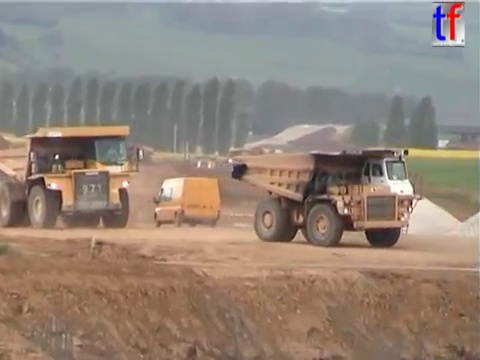truck: (227, 146, 426, 248), (1, 124, 145, 231), (123, 141, 154, 165)
